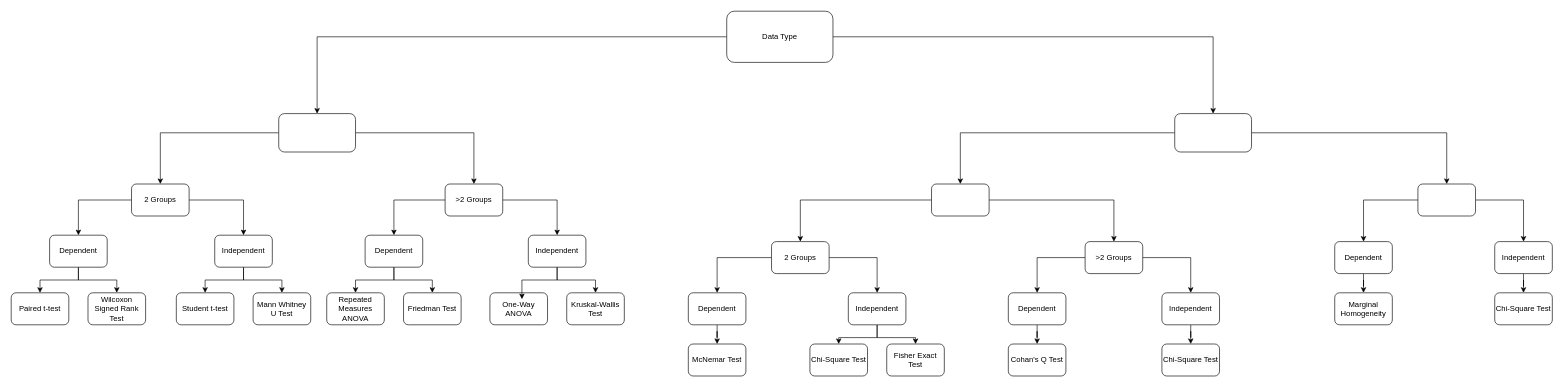
This 1564x387 diagram has some shape labels left out. The centre of each missing label's shape, as x and y in pixels:
2 Categories: (x=960, y=199)
>2 Categories: (x=1446, y=199)
Categorical: (x=1213, y=132)
Numerical: (x=317, y=132)
